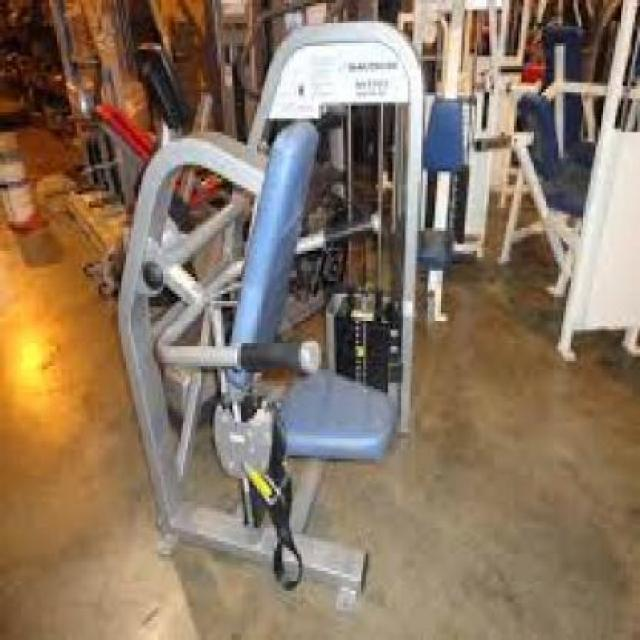seated dip machine: (118, 23, 424, 612)
